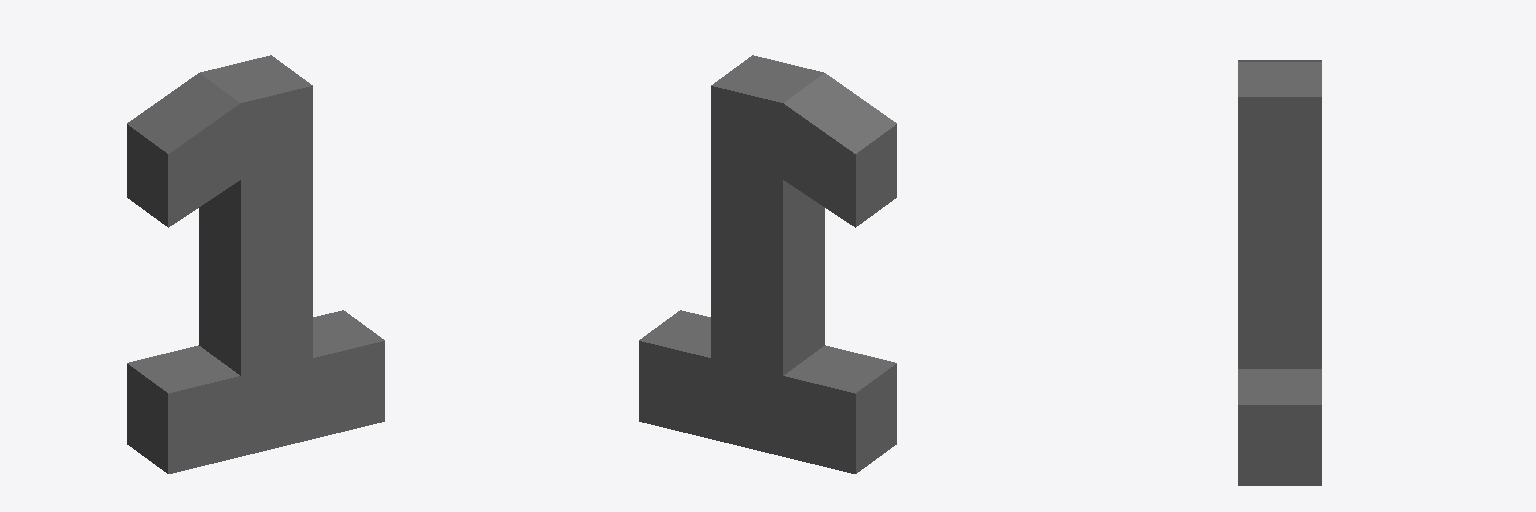
File: Floor-1.obj
3 renders of one model, left to right at view 1: azimuth 30°, elevation 25°; view 2: azimuth 150°, elevation 25°; view 3: azimuth 270°, elevation 25°, orthographic.
Parts seen in each view (by area): view 1: Cube.003; view 2: Cube.003; view 3: Cube.003.
Boxes of the visible parts, x1=… form: Cube.003: x1=127, y1=55, x2=384, y2=473; Cube.003: x1=639, y1=55, x2=896, y2=473; Cube.003: x1=1238, y1=60, x2=1321, y2=485.
Bounding box in the file's own units: 6 × 9.34 × 2.